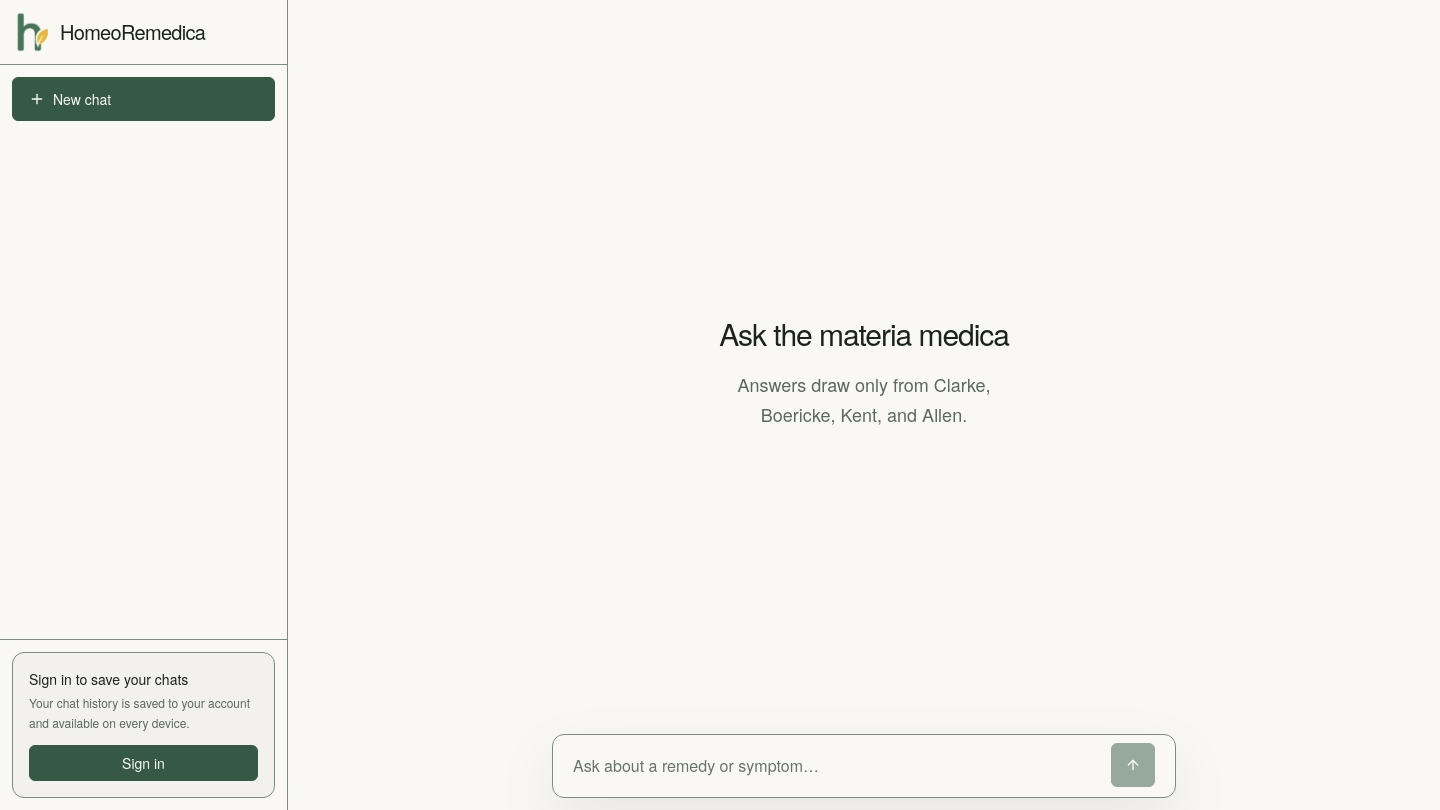
Test case: ChatClient › sends a message and shows the answer without the repeated notice
The width and height of the screenshot is (1440, 810).
Step 1. Type "How is Nux vomica described?" into the text box named "Message" → [836, 766], box [573,743,1099,789]
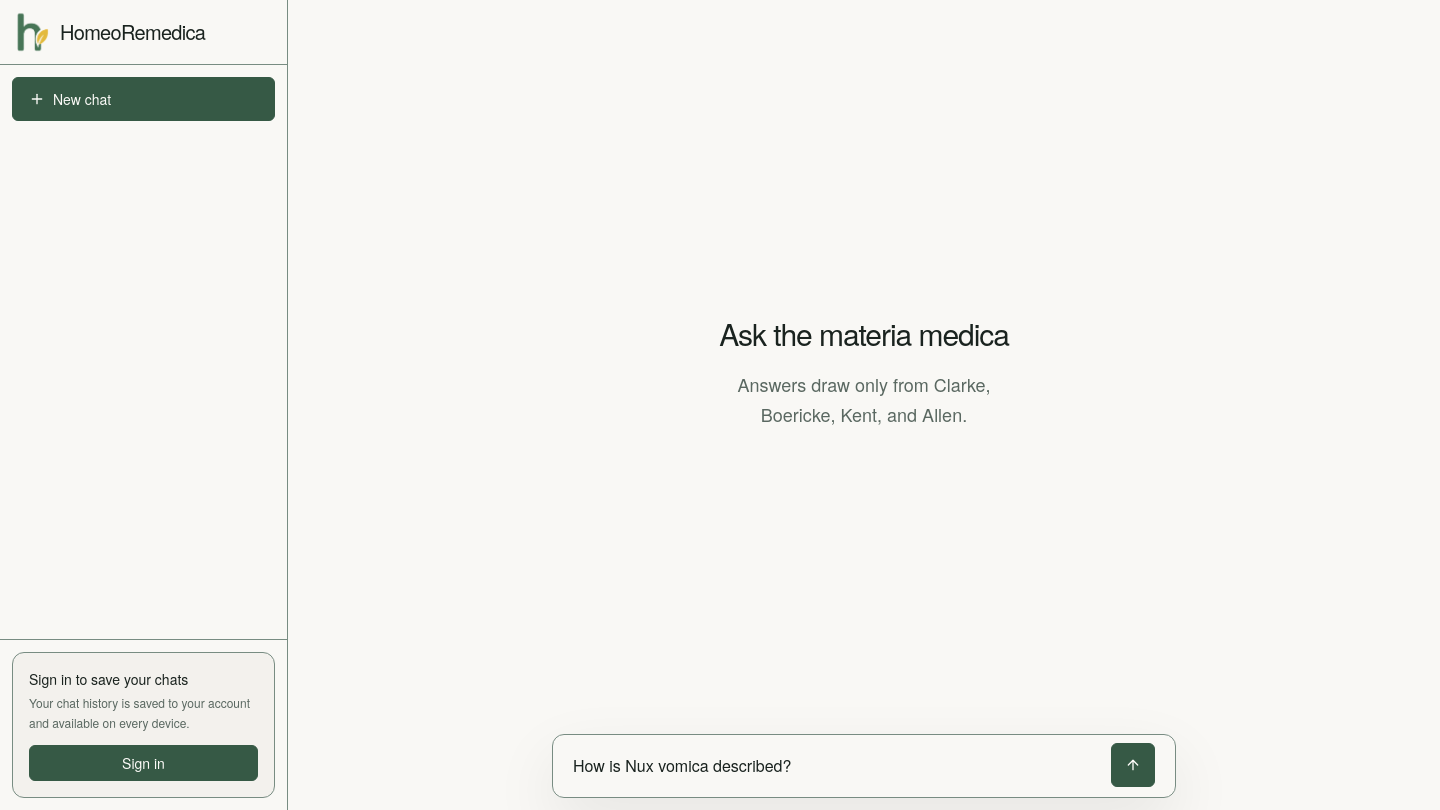
Step 2. Click the button named "Send message" → [1133, 765], box [1111,743,1155,787]
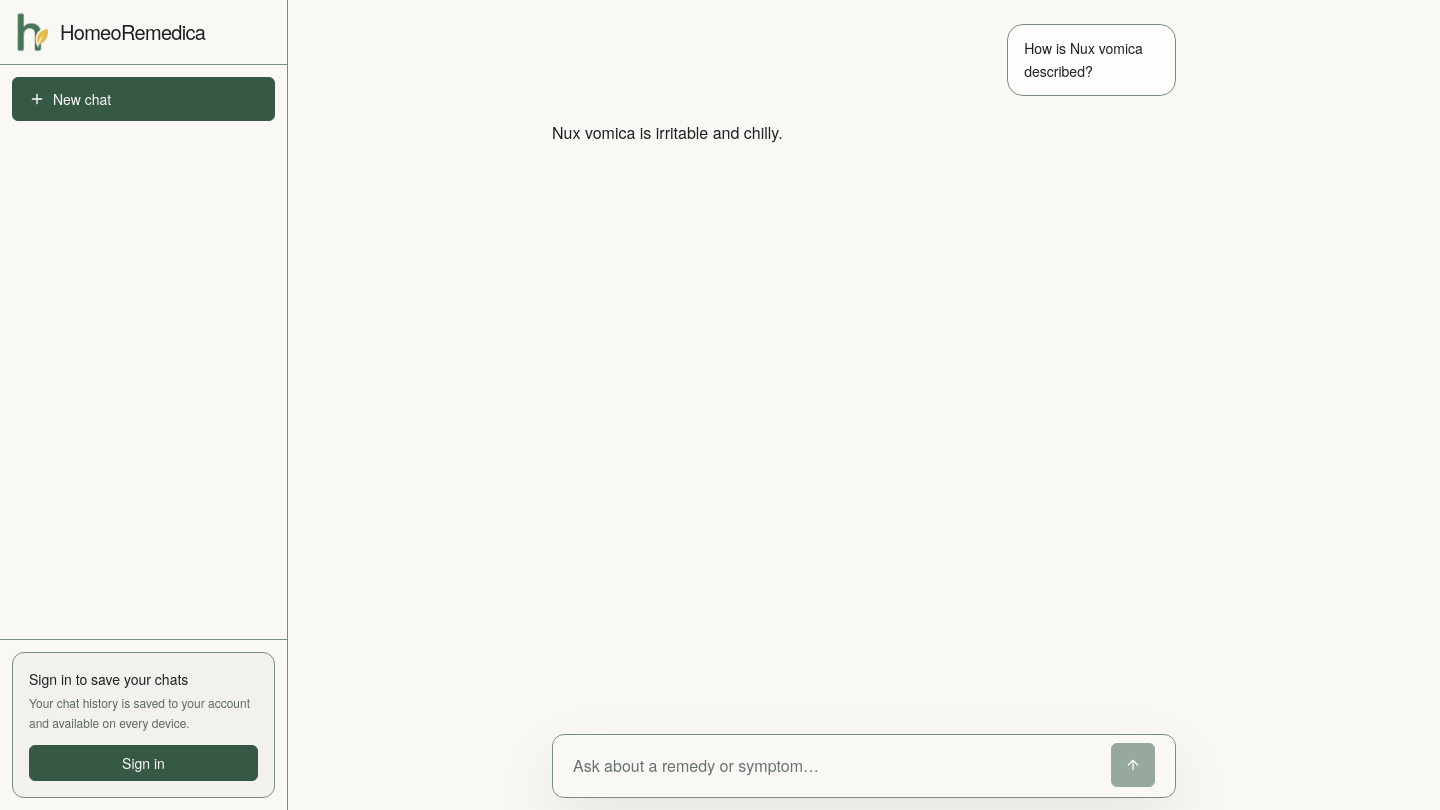
Expected: the text "Nux vomica is irritable and chilly." is shown, [552,121,783,144]
Expected: the text "How is Nux vomica described?" is shown, [1024,37,1159,83]
